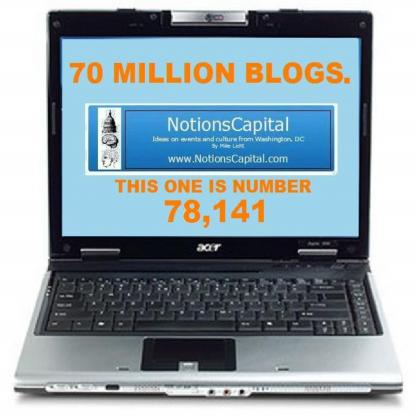board: (8, 0, 392, 416)
